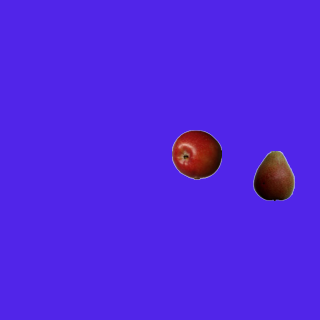Apple Braeburn: (171, 129, 221, 179)
Pear Forelle: (248, 150, 298, 200)
